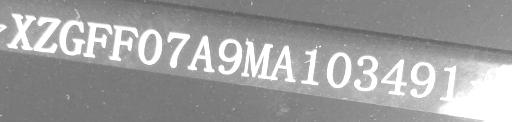letter: (240, 39, 276, 81), (380, 56, 410, 99), (266, 43, 298, 83), (8, 12, 38, 51), (325, 50, 353, 90), (162, 27, 190, 67), (108, 22, 138, 59), (436, 62, 464, 101), (33, 15, 61, 54), (138, 26, 166, 64), (188, 32, 214, 72), (408, 61, 436, 98), (57, 17, 85, 54), (83, 20, 111, 57), (215, 37, 243, 73), (354, 53, 382, 87), (298, 46, 320, 88)
